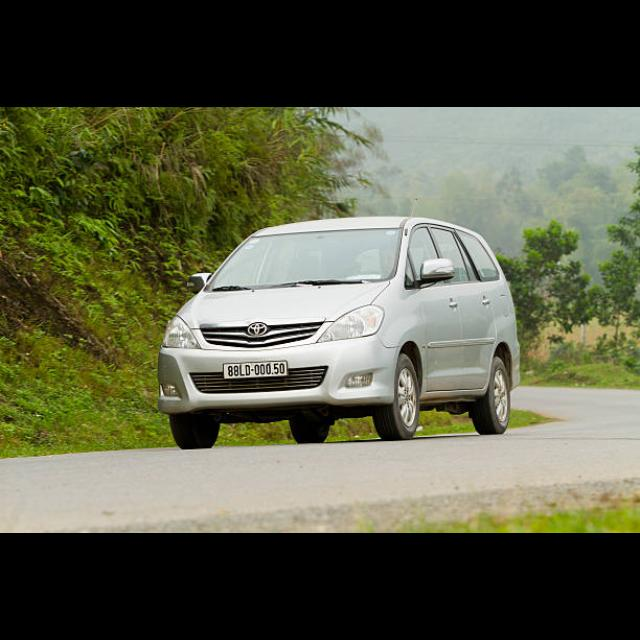number-plate: (221, 355, 291, 384)
vehicles: (157, 210, 526, 454)
